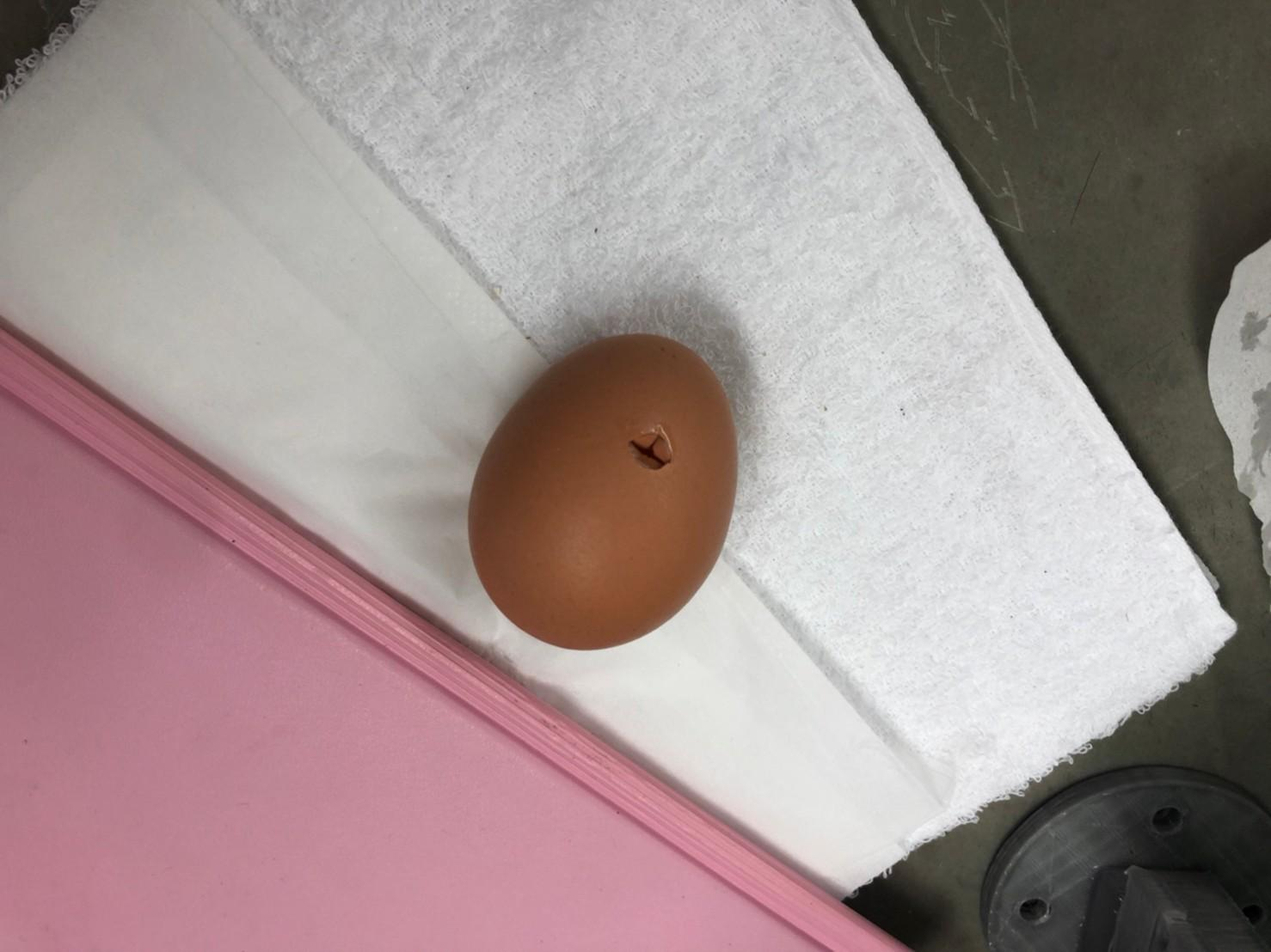egg: (462, 333, 745, 661)
